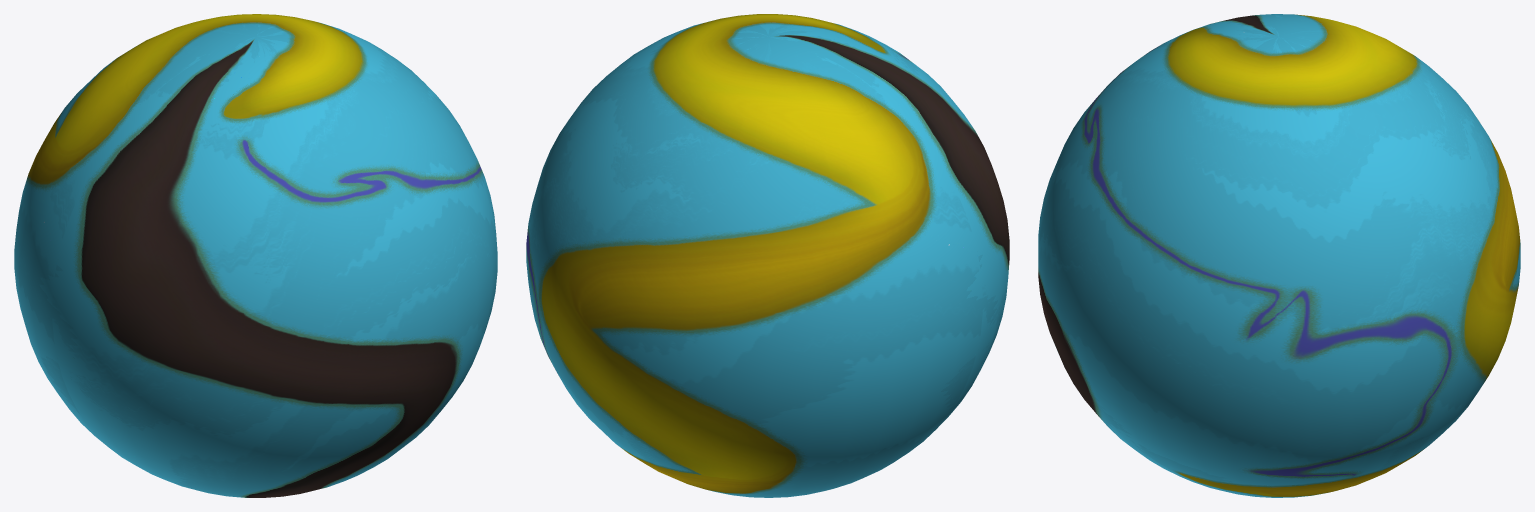
File: Serpent.fbx
The picture shows the model from 3 angles, left to right: view 1: azimuth 30°, elevation 25°; view 2: azimuth 150°, elevation 25°; view 3: azimuth 270°, elevation 25°; orthographic projection.
Visible parts, largest first — view 1: Serpent; view 2: Serpent; view 3: Serpent.
Part boxes in pixels (x1=…): Serpent: x1=14, y1=14, x2=497, y2=497; Serpent: x1=526, y1=14, x2=1009, y2=497; Serpent: x1=1038, y1=14, x2=1520, y2=497.
Bounding box in the file's own units: 200 × 200 × 199.
Materials: 1 (1 with a texture image).
